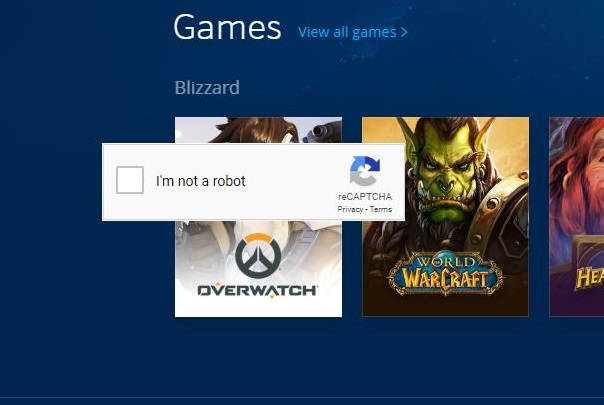captcha: (116, 166, 248, 194)
